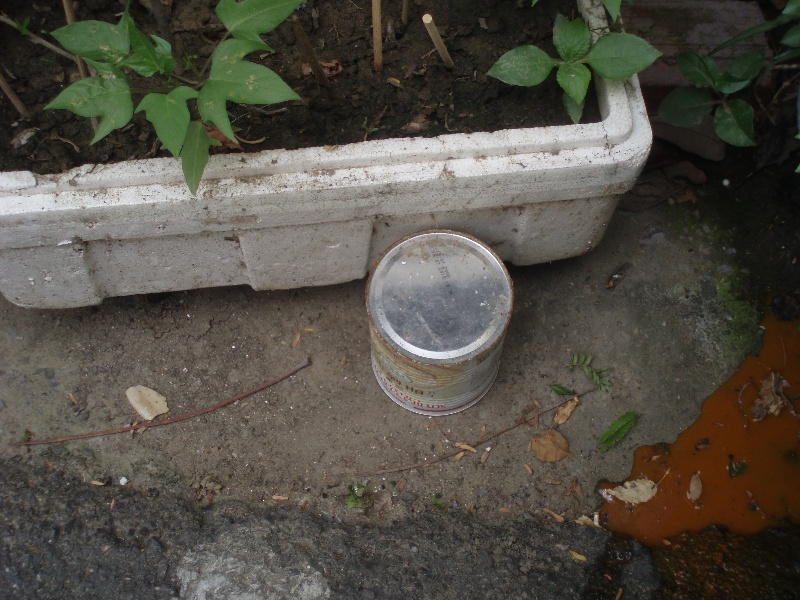bottle: (364, 229, 515, 414)
styrofoam: (1, 1, 655, 310)
